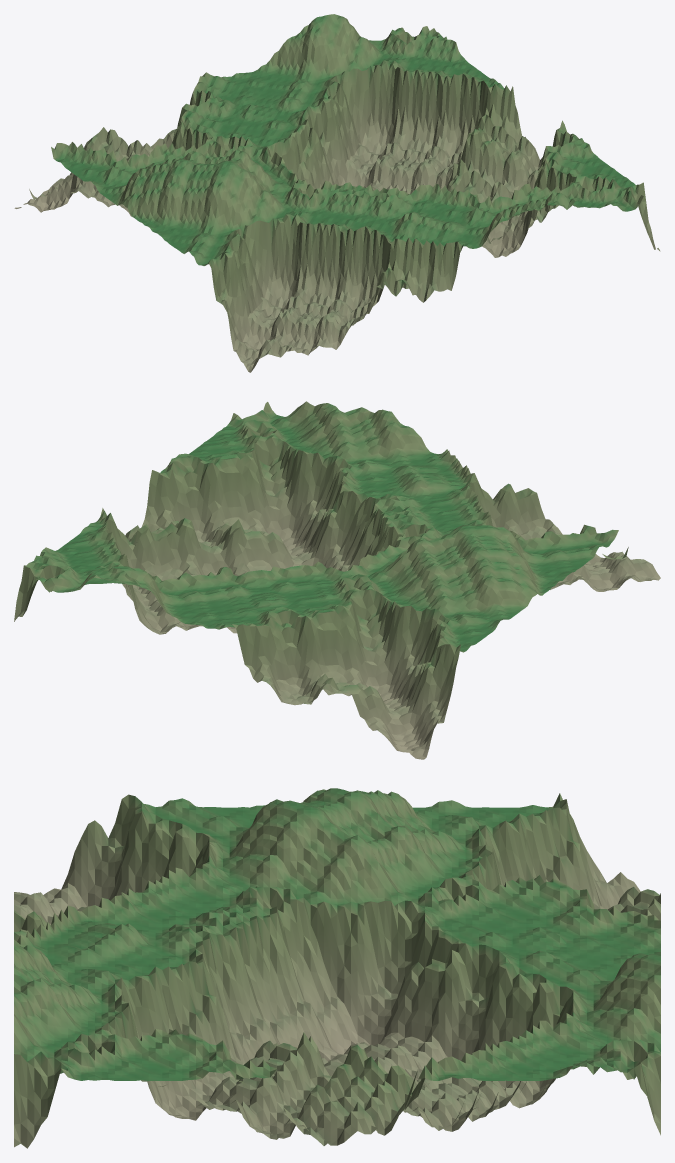
File: tropical_lod0.glb
3 renders of one model, top to bottom at view 1: azimuth 30°, elevation 25°; view 2: azimuth 150°, elevation 25°; view 3: azimuth 270°, elevation 25°, orthographic. The views are drawn at different scales.
Visible parts, largest first — view 1: world; view 2: world; view 3: world.
Part boxes in pixels (x1,y1,x2,y2): world: [14, 14, 660, 372]; world: [14, 401, 660, 759]; world: [14, 788, 660, 1148].
Bounding box in the file's own units: 2 × 0.5873 × 2.
